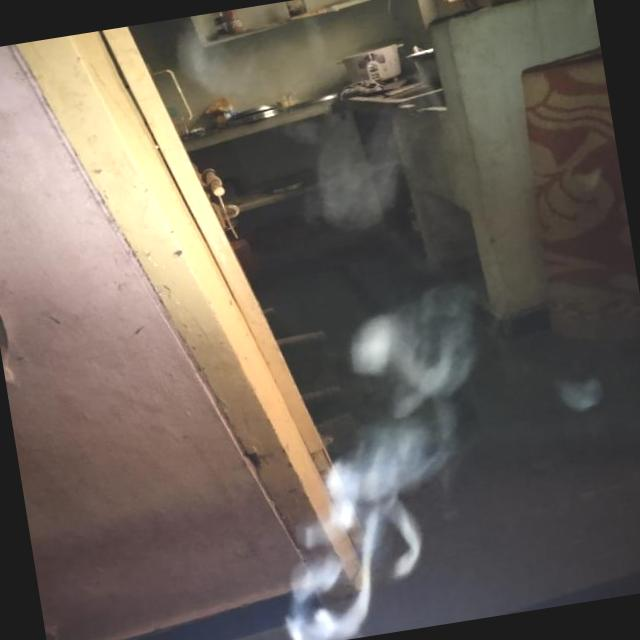smoke: (239, 309, 480, 640)
